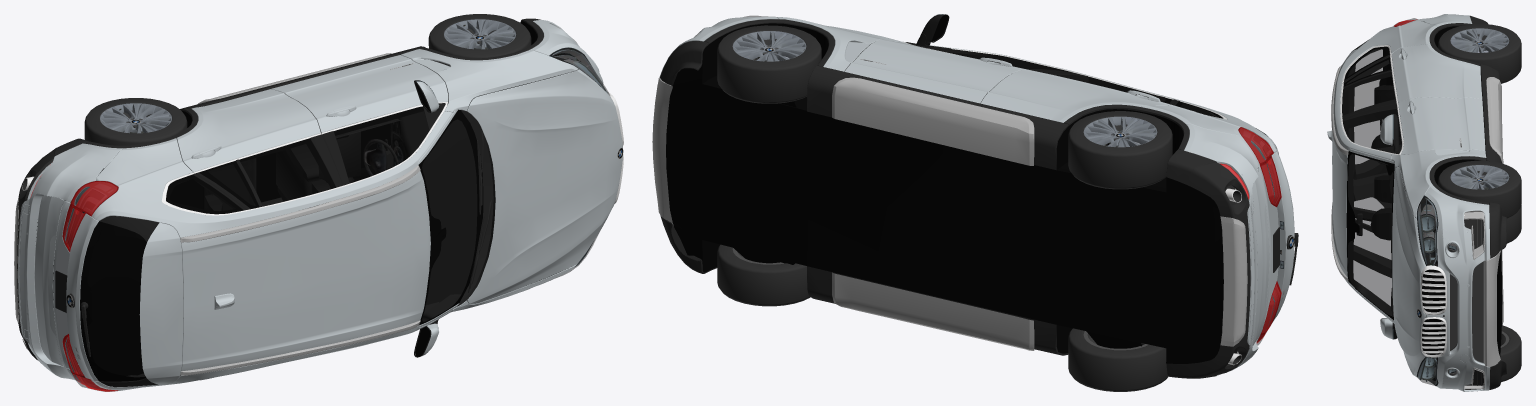
3 views of the same model, side by side, from view 1: azimuth 30°, elevation 25°; view 2: azimuth 150°, elevation 25°; view 3: azimuth 270°, elevation 25° (orthographic). The views are drawn at different scales.
Parts seen in each view (by area): view 1: body_mesh, wheel_RL_mesh, wheel_FL_mesh; view 2: body_mesh, wheel_RL_mesh, wheel_FL_mesh, wheel_RR_mesh, wheel_FR_mesh; view 3: body_mesh, wheel_FL_mesh, wheel_RL_mesh, wheel_FR_mesh, wheel_RR_mesh.
Boxes of the visible parts, x1=… form: body_mesh: x1=14, y1=18, x2=623, y2=391; wheel_RL_mesh: x1=84, y1=98, x2=187, y2=145; wheel_FL_mesh: x1=428, y1=14, x2=531, y2=58; body_mesh: x1=652, y1=14, x2=1298, y2=378; wheel_RL_mesh: x1=1068, y1=111, x2=1172, y2=189; wheel_FL_mesh: x1=717, y1=25, x2=821, y2=103; wheel_RR_mesh: x1=1068, y1=328, x2=1168, y2=391; wheel_FR_mesh: x1=717, y1=244, x2=810, y2=306; body_mesh: x1=1327, y1=14, x2=1506, y2=391; wheel_FL_mesh: x1=1438, y1=160, x2=1521, y2=218; wheel_RL_mesh: x1=1438, y1=24, x2=1521, y2=83; wheel_FR_mesh: x1=1500, y1=325, x2=1521, y2=382; wheel_RR_mesh: x1=1506, y1=205, x2=1521, y2=243.
Size of the model in its own units: 4.89 by 2.22 by 1.74.
Materials: 17 (6 with a texture image).
